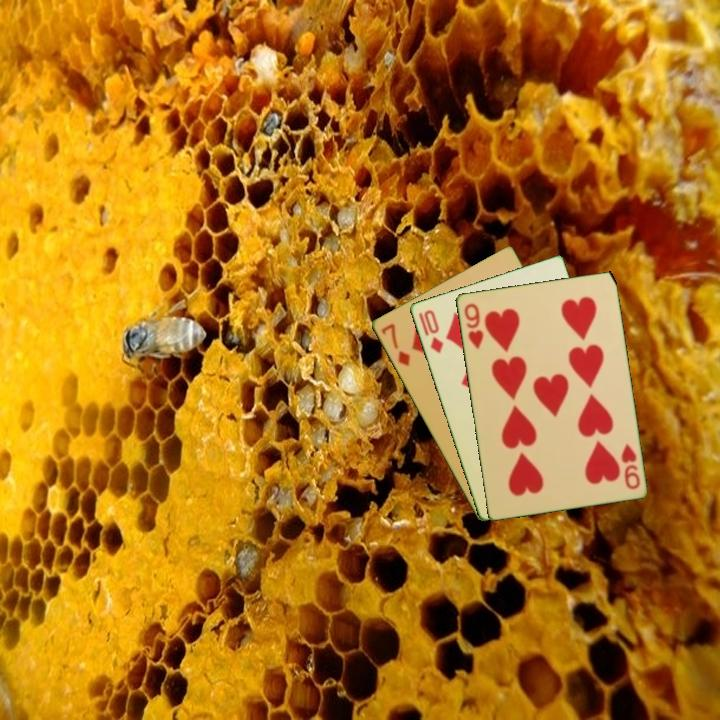10d: (420, 306, 446, 356)
7d: (377, 320, 413, 369)
9h: (460, 300, 486, 352), (617, 440, 643, 492)
